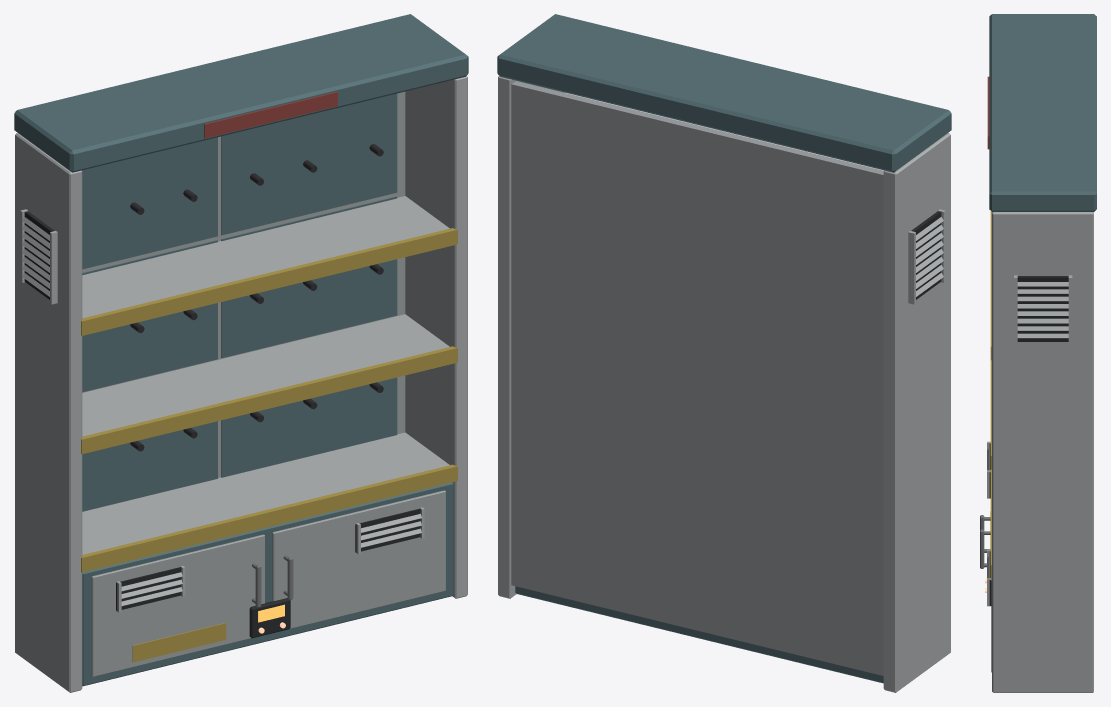
File: astro_weapon_rack.fbx
3 renders of one model, left to right at view 1: azimuth 30°, elevation 25°; view 2: azimuth 150°, elevation 25°; view 3: azimuth 270°, elevation 25°, orthographic. The views are drawn at different scales.
Parts seen in each view (by area): view 1: WeaponRack_Body; view 2: WeaponRack_Body; view 3: WeaponRack_Body.
Boxes of the visible parts, x1,y1,x2,y2 form: WeaponRack_Body: (14,14,468,692); WeaponRack_Body: (497,14,951,692); WeaponRack_Body: (980,14,1096,692).
Bounding box in the file's own units: 309 × 390 × 82.5.
